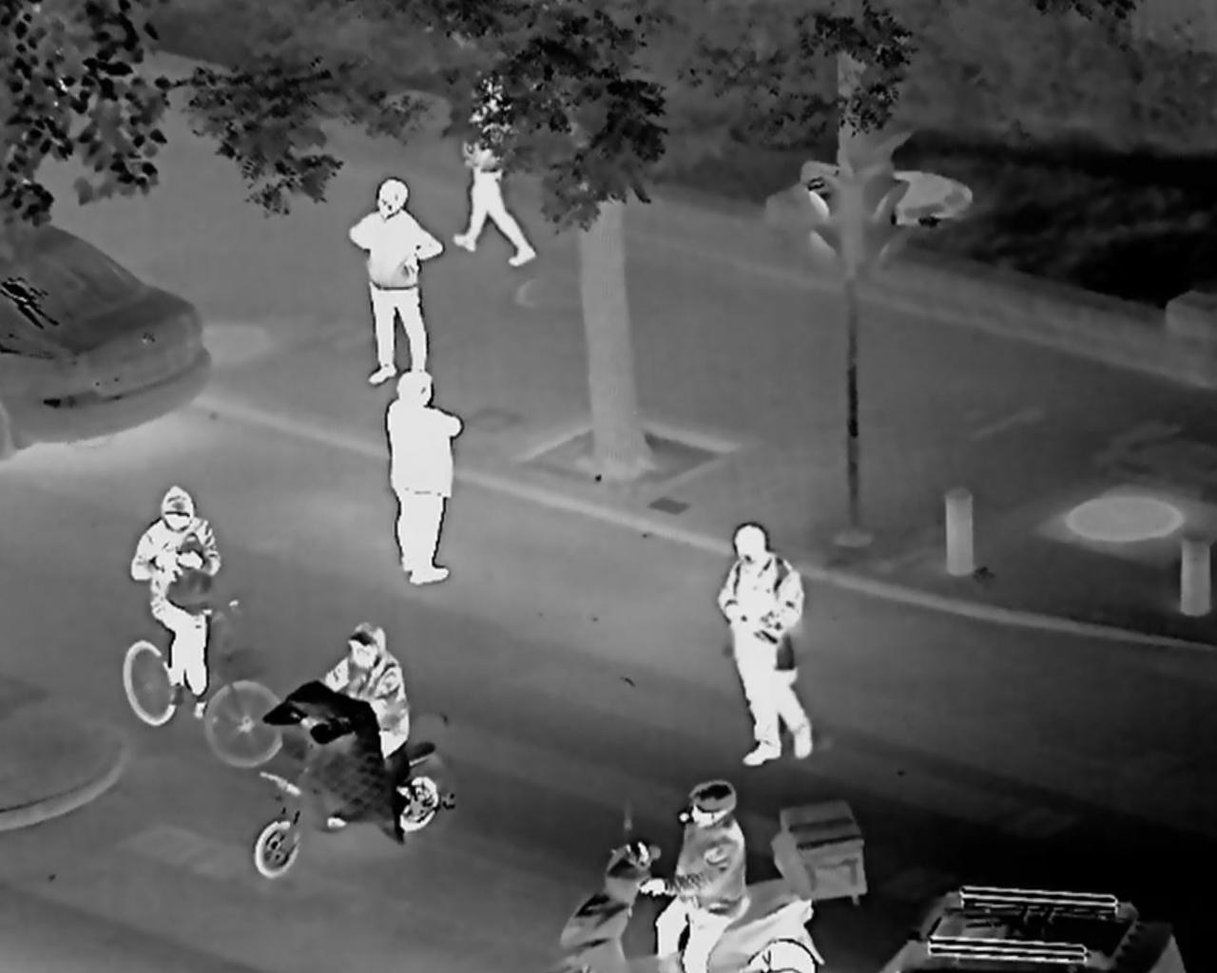person: (710, 500, 813, 768), (123, 476, 236, 715), (343, 171, 445, 382), (374, 391, 463, 579), (670, 778, 747, 973), (449, 96, 532, 267), (331, 614, 414, 760)
